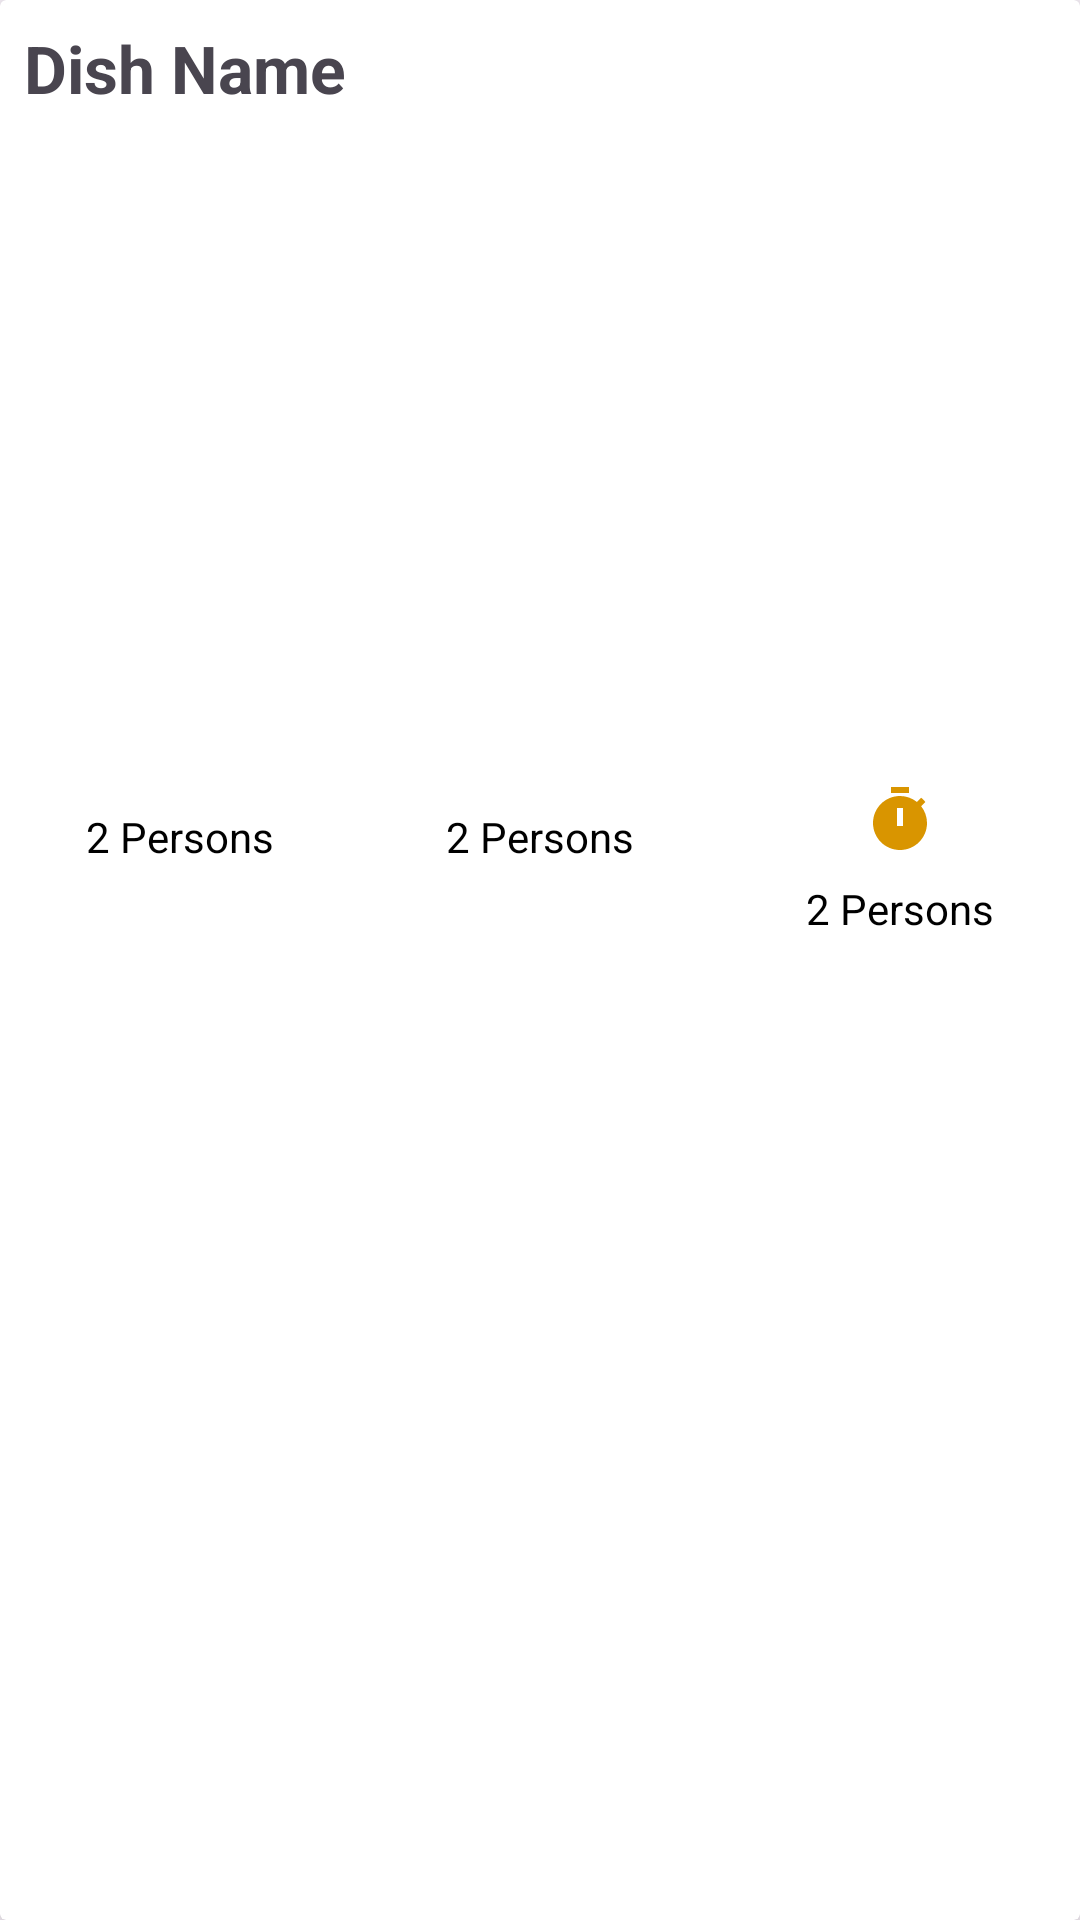

Screen size 1080 x 1920. Icon name, then its box in pixels as (x1, y1, x2, y2):
time: (873, 787, 927, 850)
